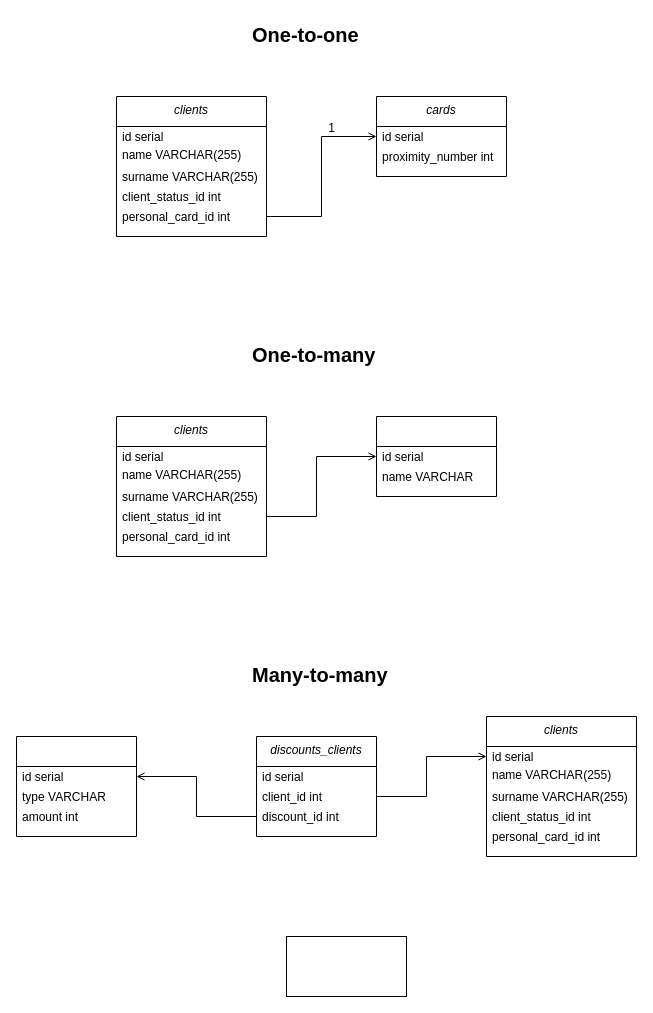
The diagram is 653 pixels wide and 1013 high, and some of its shapes have lost their labels. The shapes that lost their labels are listed below. From the top down, each one's box as (x1, y1, x2, y2) in pixels, then its label:
(376, 416, 496, 496): statuses
(16, 736, 136, 836): discounts
